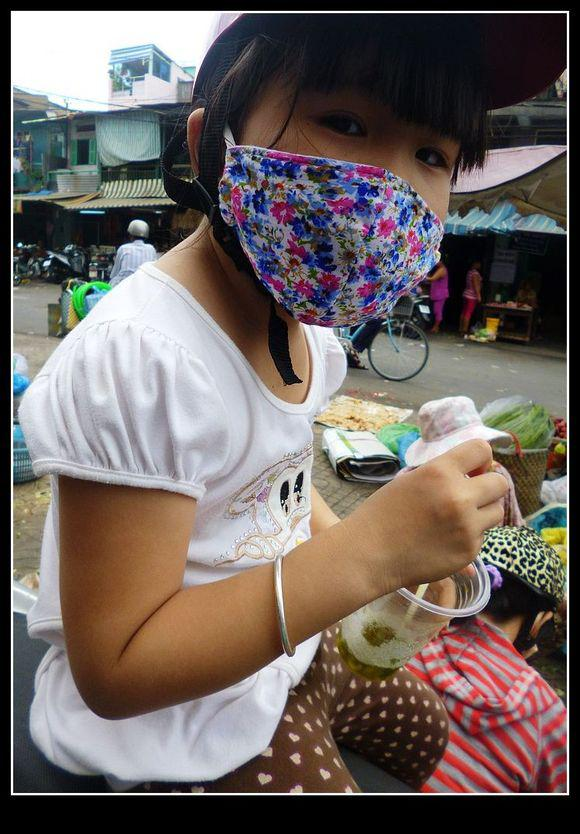OK: (247, 88, 471, 312)
